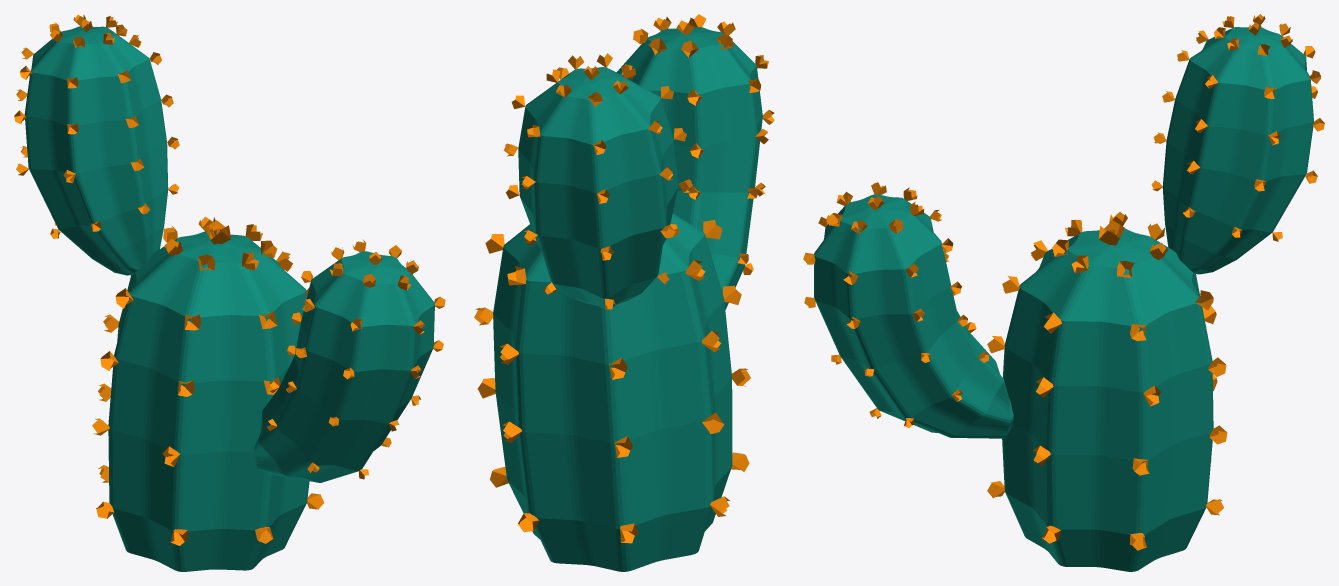
File: kaktus01.fbx
3 views of the same model, side by side, from view 1: azimuth 30°, elevation 25°; view 2: azimuth 150°, elevation 25°; view 3: azimuth 270°, elevation 25° (orthographic). The views are drawn at different scales.
Visible parts, largest first — view 1: kaktus01; view 2: kaktus01; view 3: kaktus01.
Boxes of the visible parts, bbox=[...] form: kaktus01: bbox=[14, 14, 445, 571]; kaktus01: bbox=[474, 14, 774, 571]; kaktus01: bbox=[803, 14, 1324, 571].
Size of the model in its own units: 0.6592 by 1.26 by 1.32.
